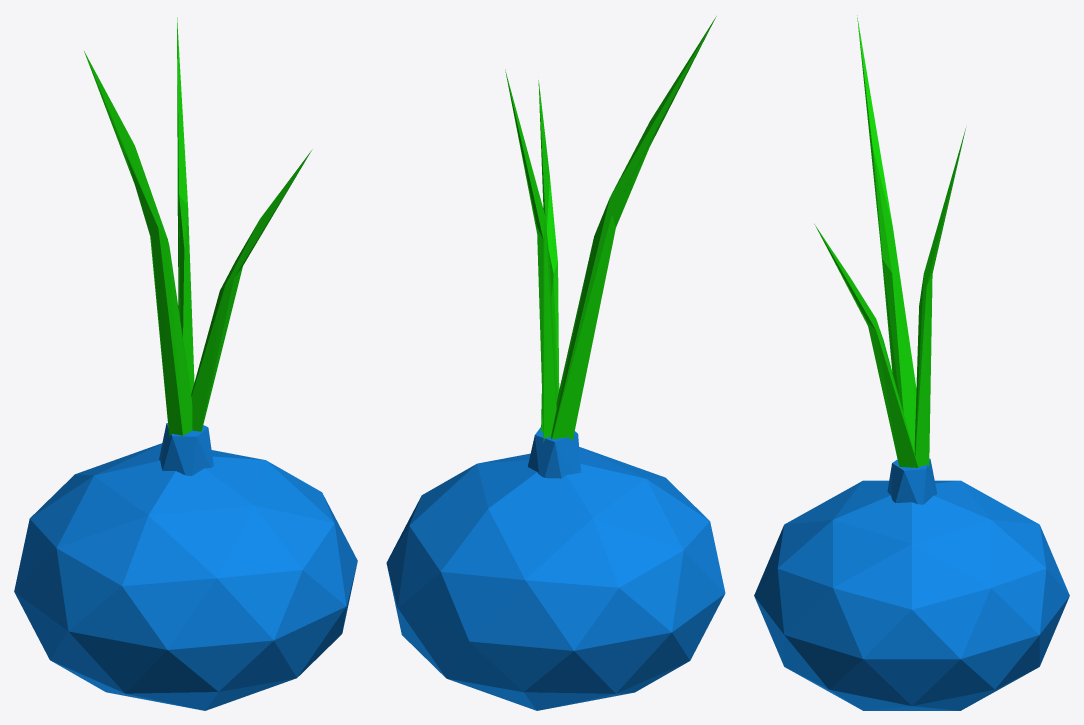
The model's file is MagicFruit.fbx.
3 views of the same model, side by side, from view 1: azimuth 30°, elevation 25°; view 2: azimuth 150°, elevation 25°; view 3: azimuth 270°, elevation 25° (orthographic). The views are drawn at different scales.
Visible parts, largest first — view 1: MagicFruit; view 2: MagicFruit; view 3: MagicFruit.
Part boxes in pixels (left/top/right/bottom): MagicFruit: left=14, top=17, right=357, bottom=710; MagicFruit: left=386, top=16, right=725, bottom=710; MagicFruit: left=754, top=15, right=1069, bottom=710.
Bounding box in the file's own units: 9.07 × 21.28 × 9.54.
